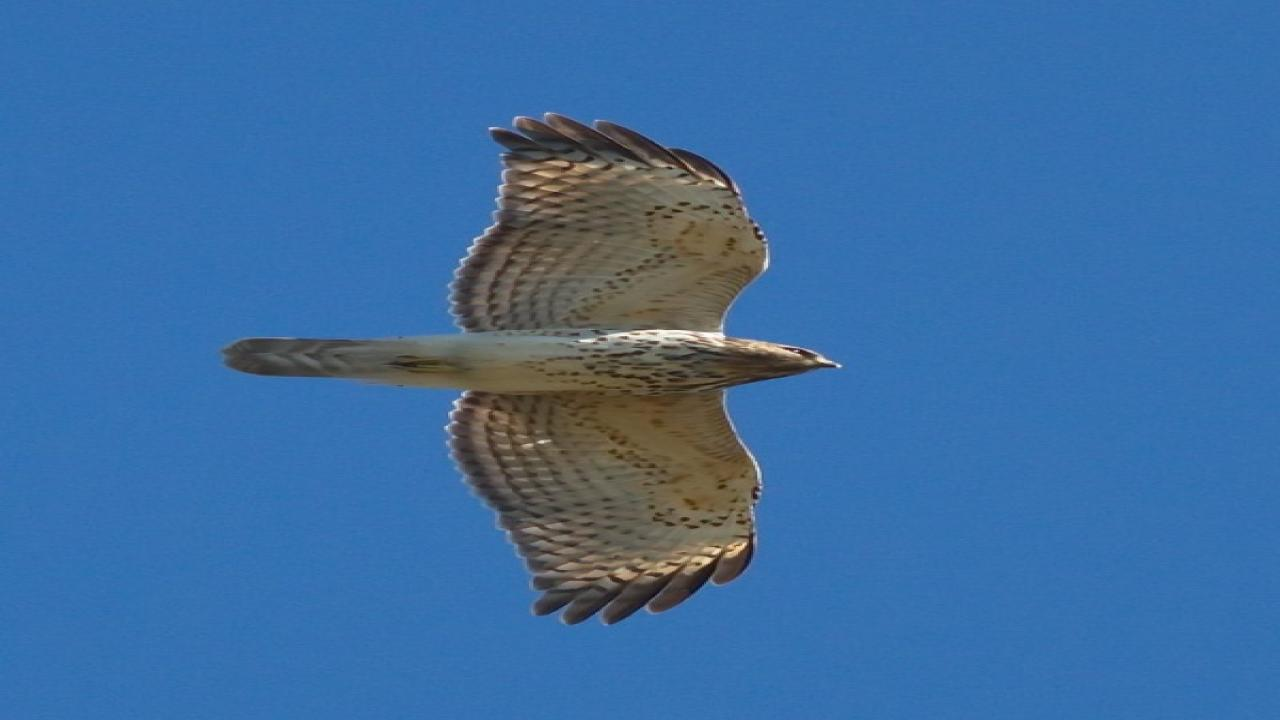Bird: (208, 104, 858, 630)
